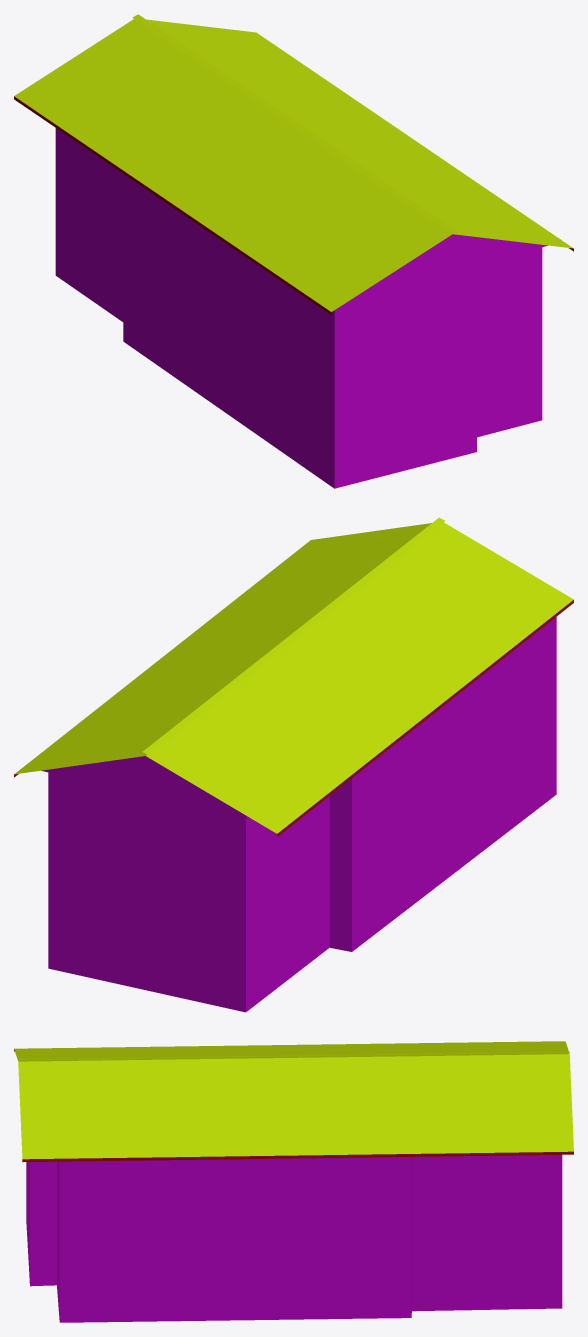
Rendered from bgj_199.glb.
The picture shows the model from 3 angles, top to bottom: view 1: azimuth 30°, elevation 25°; view 2: azimuth 150°, elevation 25°; view 3: azimuth 270°, elevation 25°; orthographic projection. The views are drawn at different scales.
Visible parts, largest first — view 1: bgj_199; view 2: bgj_199; view 3: bgj_199.
Boxes of the visible parts, left/top/right/bottom form: bgj_199: left=14, top=14, right=573, bottom=488; bgj_199: left=14, top=517, right=573, bottom=1012; bgj_199: left=14, top=1041, right=573, bottom=1322.
Size of the model in its own units: 10.43 by 8.8 by 20.9.
